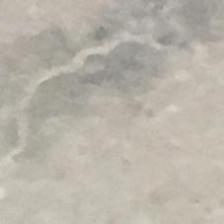Non_Crack: (14, 15, 214, 218)
